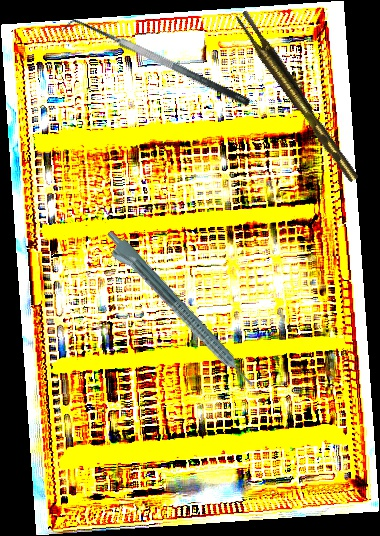Handpiece: (97, 227, 259, 397)
Spatula Surgical: (60, 6, 253, 123)
Tissue Forceps: (234, 6, 359, 189)
